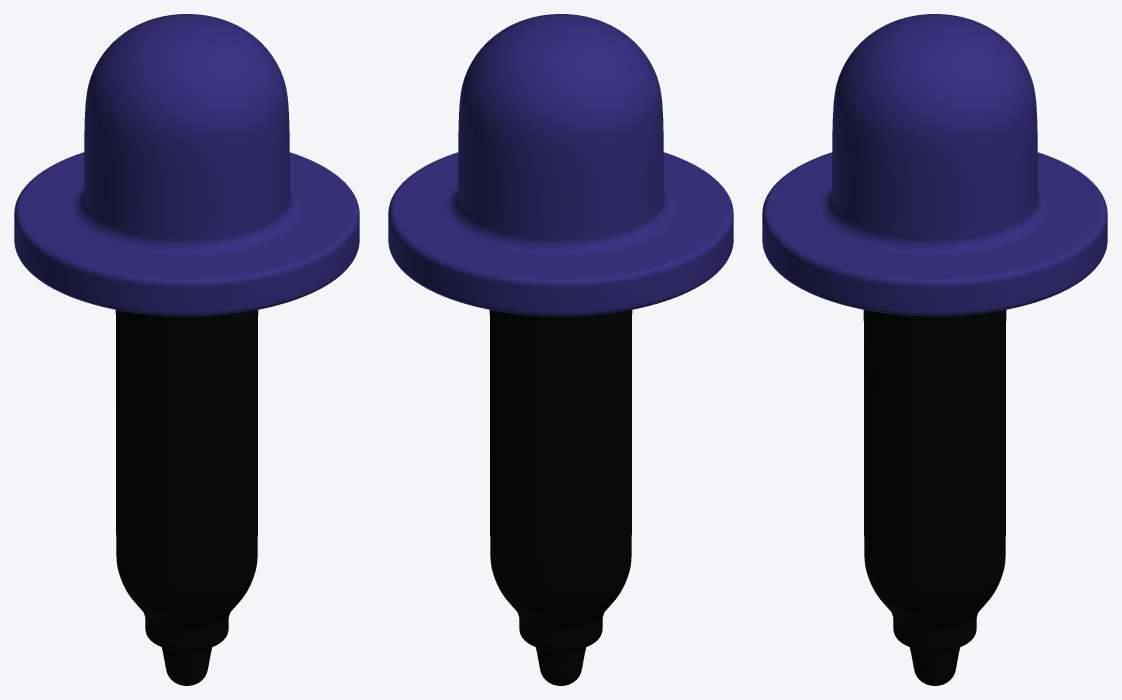
The model's file is dropper.glb.
3 renders of one model, left to right at view 1: azimuth 30°, elevation 25°; view 2: azimuth 150°, elevation 25°; view 3: azimuth 270°, elevation 25°, orthographic.
Parts seen in each view (by area): view 1: Cylinder.008; view 2: Cylinder.008; view 3: Cylinder.008.
Part boxes in pixels (x1=…): Cylinder.008: x1=14, y1=14, x2=359, y2=685; Cylinder.008: x1=388, y1=14, x2=733, y2=685; Cylinder.008: x1=762, y1=14, x2=1107, y2=685.
Bounding box in the file's own units: 0.625 × 1.31 × 0.625.
